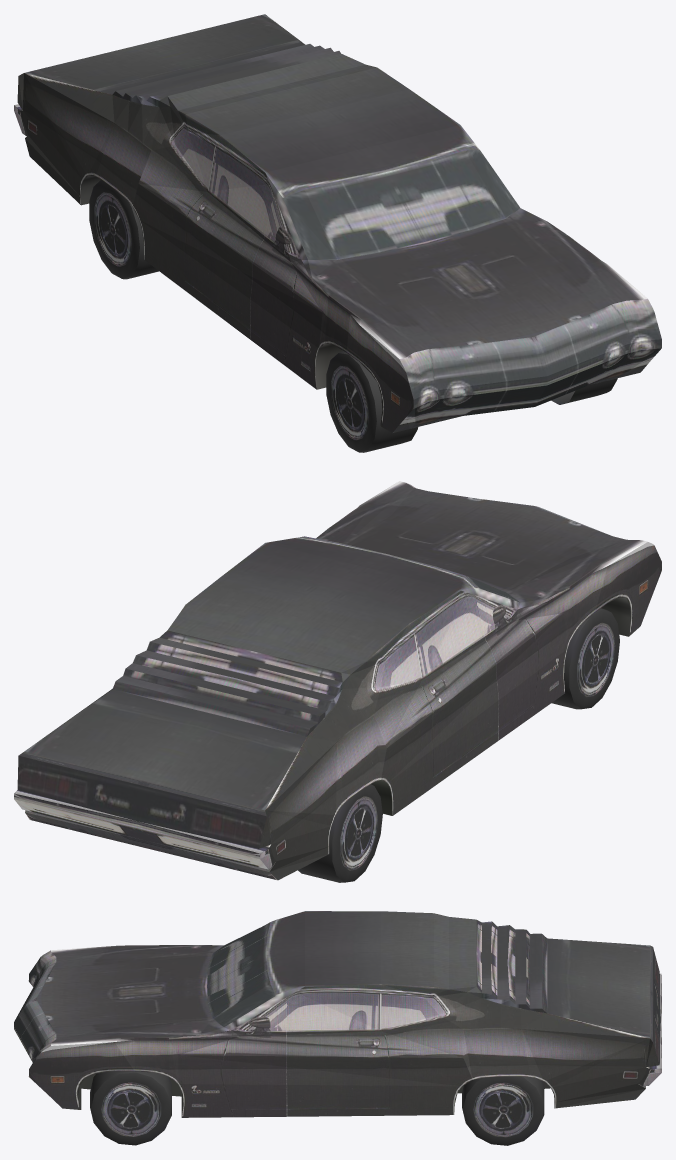
Rendered from FordTorinoCobra1.FBX.
The picture shows the model from 3 angles, top to bottom: view 1: azimuth 30°, elevation 25°; view 2: azimuth 150°, elevation 25°; view 3: azimuth 270°, elevation 25°; orthographic projection. The views are drawn at different scales.
Visible parts, largest first — view 1: BODY, FR, BR, FL; view 2: BODY, BR, FR; view 3: BODY, FL, BL.
Boxes of the visible parts, x1,y1,x2,y2 form: BODY: (14,14,661,432); FR: (326,350,418,452); BR: (89,180,158,279); FL: (551,378,617,404); BODY: (14,481,661,880); BR: (298,784,382,882); FR: (551,608,619,709); BODY: (14,911,661,1117); FL: (90,1071,171,1145); BL: (462,1076,544,1145).
Size of the model in its own units: 0.0447 by 0.0331 by 0.1277.
2 materials, 2 textured.
